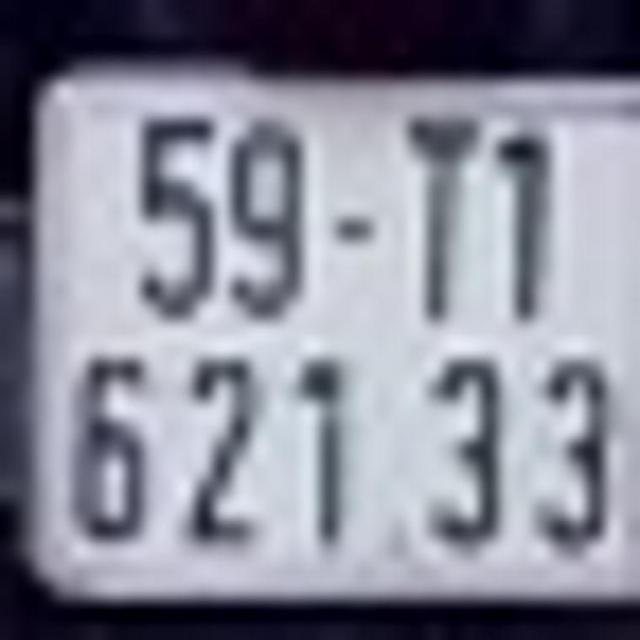1: (492, 122, 554, 325), (296, 342, 348, 542)
2: (178, 342, 262, 542)
3: (420, 347, 510, 548), (534, 352, 613, 561)
5: (131, 102, 224, 330)
6: (69, 344, 151, 550)
9: (226, 113, 312, 330)
T: (400, 114, 482, 316)
